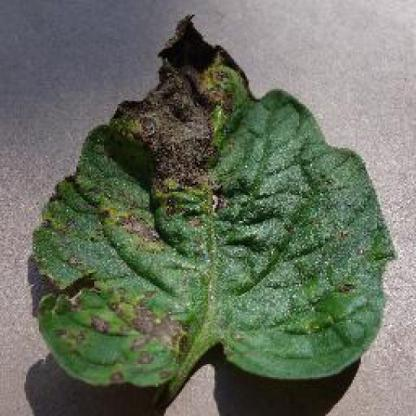Tomato_Blight: (26, 14, 396, 382)
